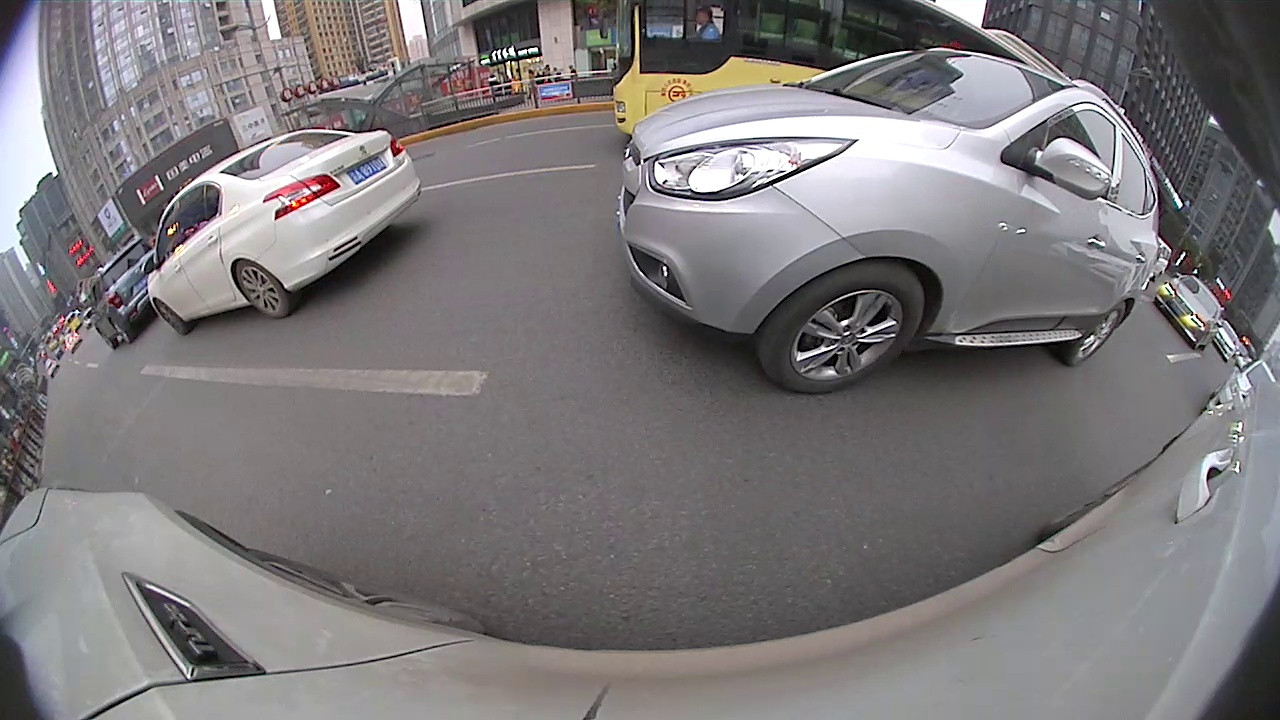bus: (608, 2, 1114, 137)
car: (613, 45, 1163, 396), (145, 116, 423, 336), (84, 235, 162, 350)
front: (760, 266, 928, 395), (156, 297, 187, 336)
rear: (1061, 300, 1126, 370), (233, 260, 292, 321)
